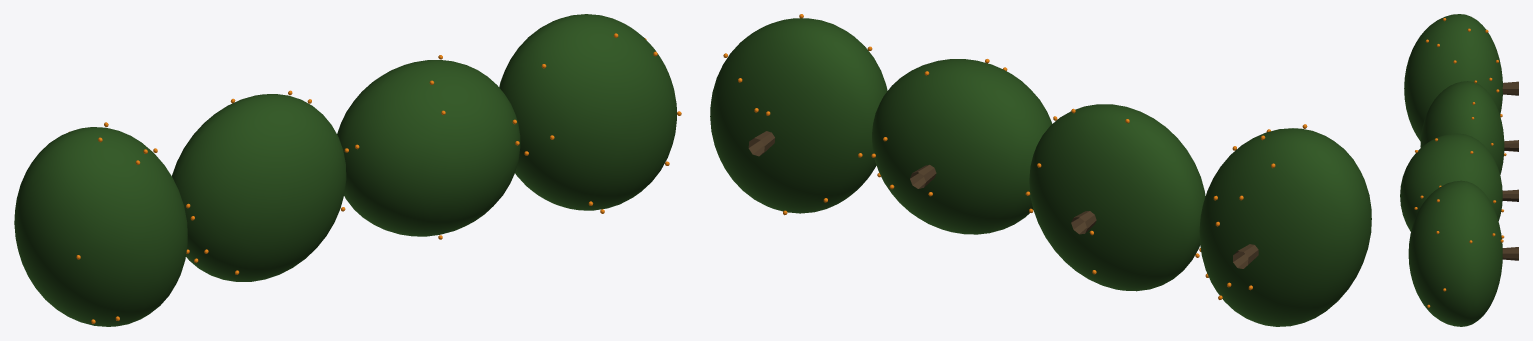
File: citrus_plain4_f_fruit.obj
The picture shows the model from 3 angles, left to right: view 1: azimuth 30°, elevation 25°; view 2: azimuth 150°, elevation 25°; view 3: azimuth 270°, elevation 25°; orthographic projection. The views are drawn at different scales.
Parts seen in each view (by area): view 1: canopy, fruit; view 2: canopy, trunk, fruit; view 3: canopy, trunk, fruit.
Boxes of the visible parts, left/top/right/bottom form: canopy: left=14, top=14, right=676, bottom=326; fruit: left=68, top=33, right=681, bottom=323; canopy: left=710, top=18, right=1371, bottom=326; trunk: left=748, top=131, right=1258, bottom=268; fruit: left=723, top=14, right=1307, bottom=299; canopy: left=1400, top=14, right=1504, bottom=326; trunk: left=1502, top=81, right=1518, bottom=260; fruit: left=1414, top=18, right=1506, bottom=307.
Size of the model in its own units: 12 by 3.52 by 2.8.
